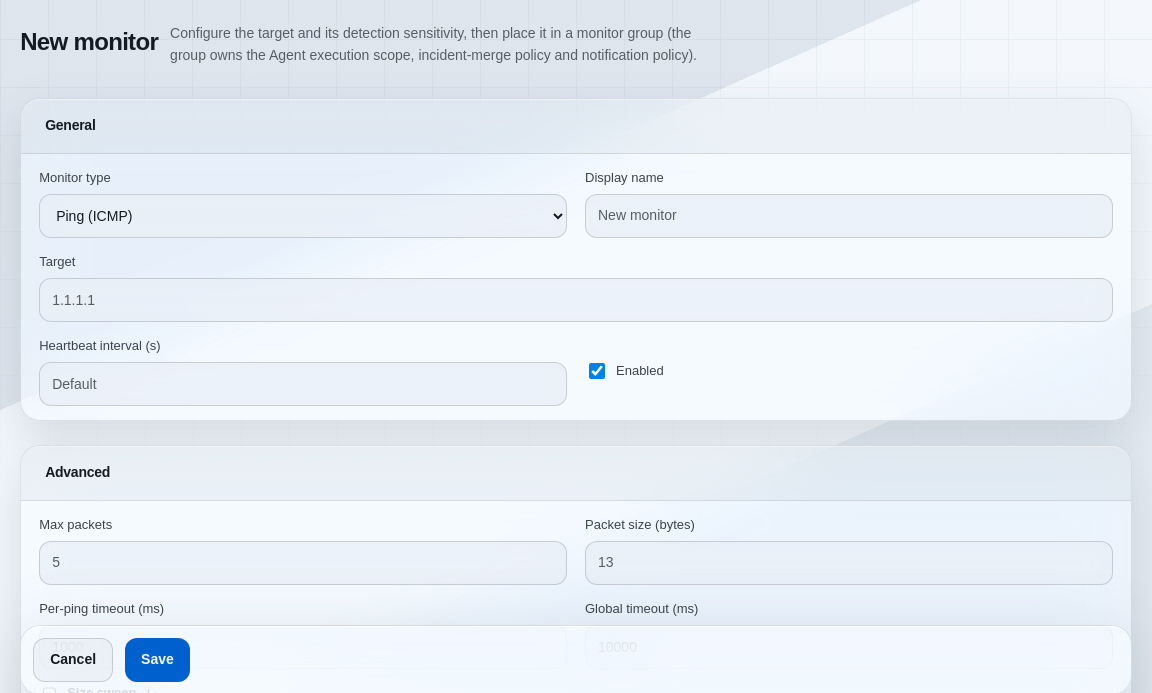
MonitorForm route monitor (trace) › offers plain-language schedule presets instead of the raw interval and timeout
Select "Route monitor" in the dropdown labelled "Monitor type" at x=303, y=216, box [39,194,567,238]
(page scrolled)
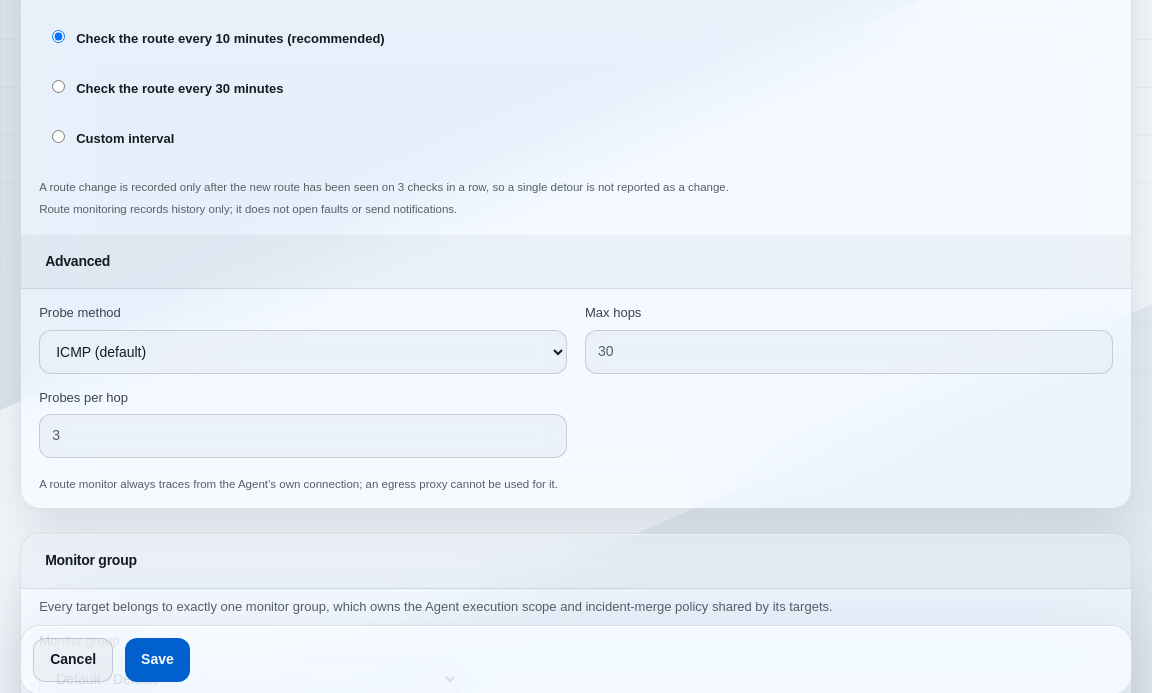
Expected: the text "Heartbeat interval (s)" is gone
Expected: the text "Check the route every 10 minutes (recommended)" is shown, [76,29,385,49]
Expected: the text "Check the route every 30 minutes" is shown, [76,79,284,99]
Select "TCP — for networks that drop ping" in the dropdown labelled "Probe method" at x=303, y=352, box [39,330,567,374]
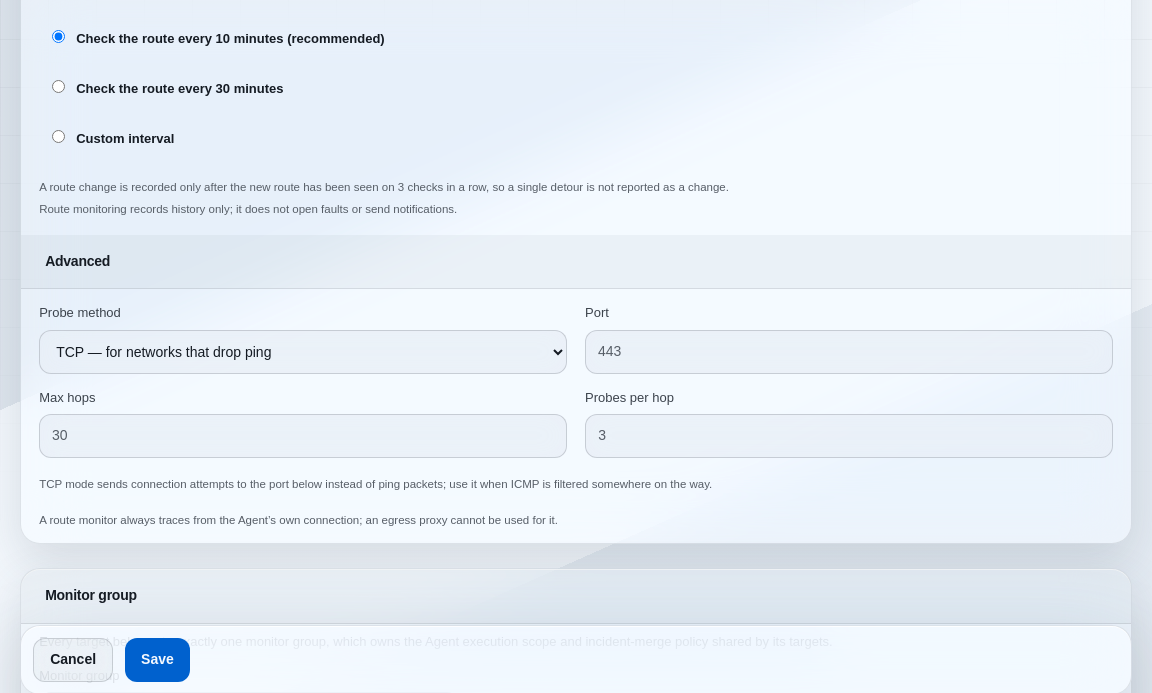
Expected: the number field with placeholder "443" is shown, [585,330,1113,374]
